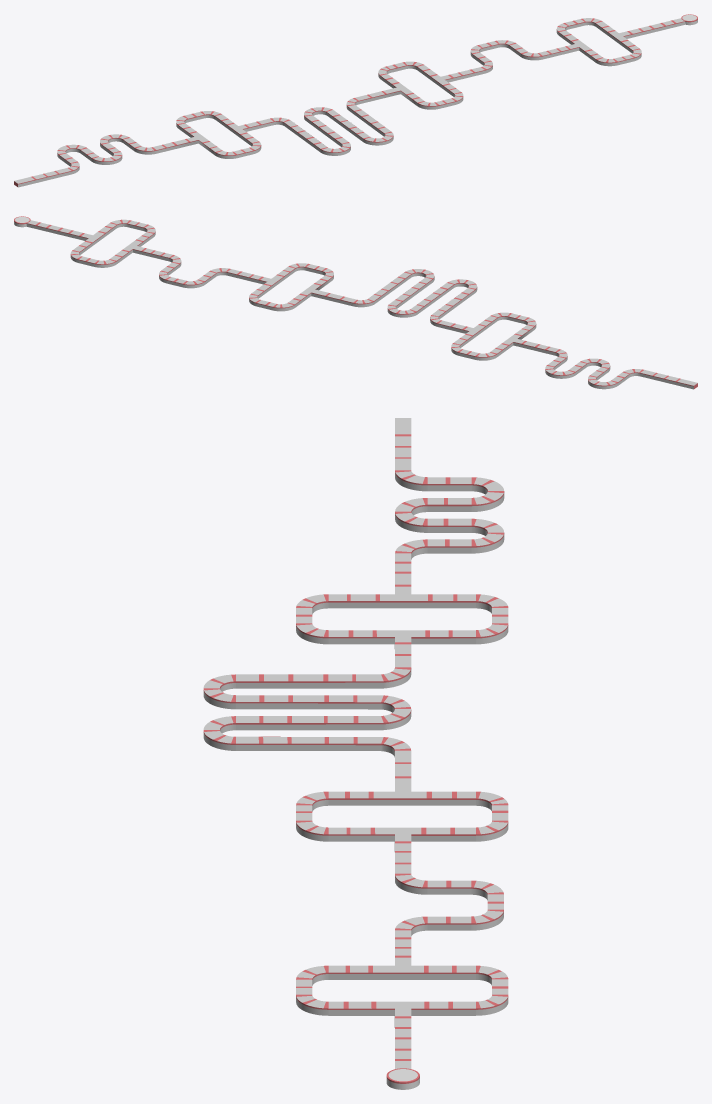
The model's file is Map_3.fbx.
3 views of the same model, one above another, from view 1: azimuth 30°, elevation 25°; view 2: azimuth 150°, elevation 25°; view 3: azimuth 270°, elevation 25° (orthographic). The views are drawn at different scales.
Parts seen in each view (by area): view 1: Map_3; view 2: Map_3; view 3: Map_3.
Part boxes in pixels (x1,y1,x2,y2): Map_3: (14, 14, 697, 187); Map_3: (14, 216, 697, 389); Map_3: (203, 418, 508, 1089).
Size of the model in its own units: 1297 by 6.94 by 252.
